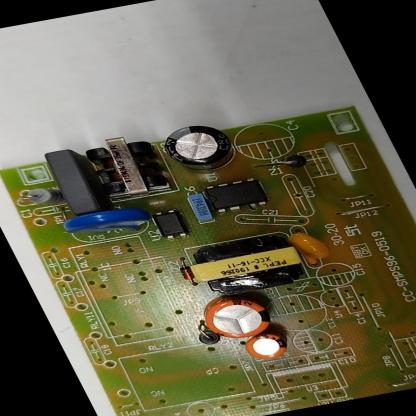Cap1: (197, 292, 278, 342)
Cap2: (240, 330, 290, 362)
Cap3: (156, 120, 242, 176)
MOSFET: (202, 177, 270, 213)
Mov: (58, 203, 155, 241)
Resistor: (19, 184, 67, 210)
Transformer: (182, 231, 312, 300), (82, 133, 170, 198)
